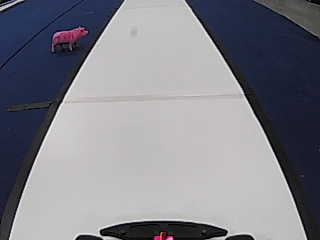pig: (50, 23, 89, 54)
